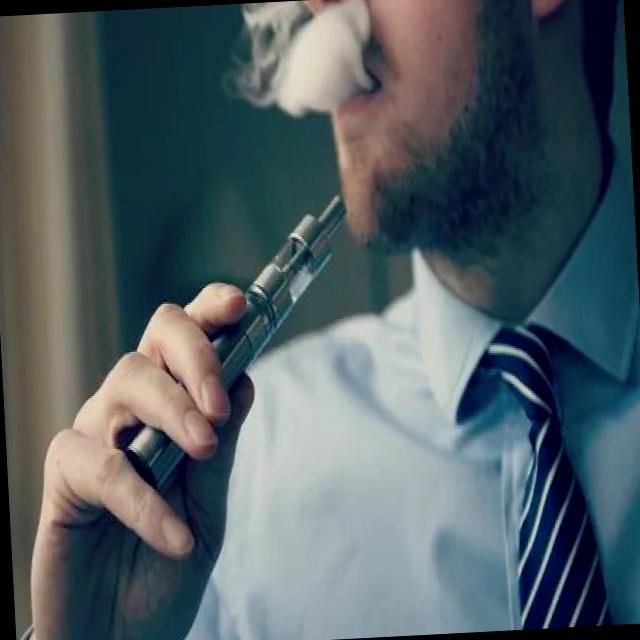smoke: (117, 188, 362, 500)
